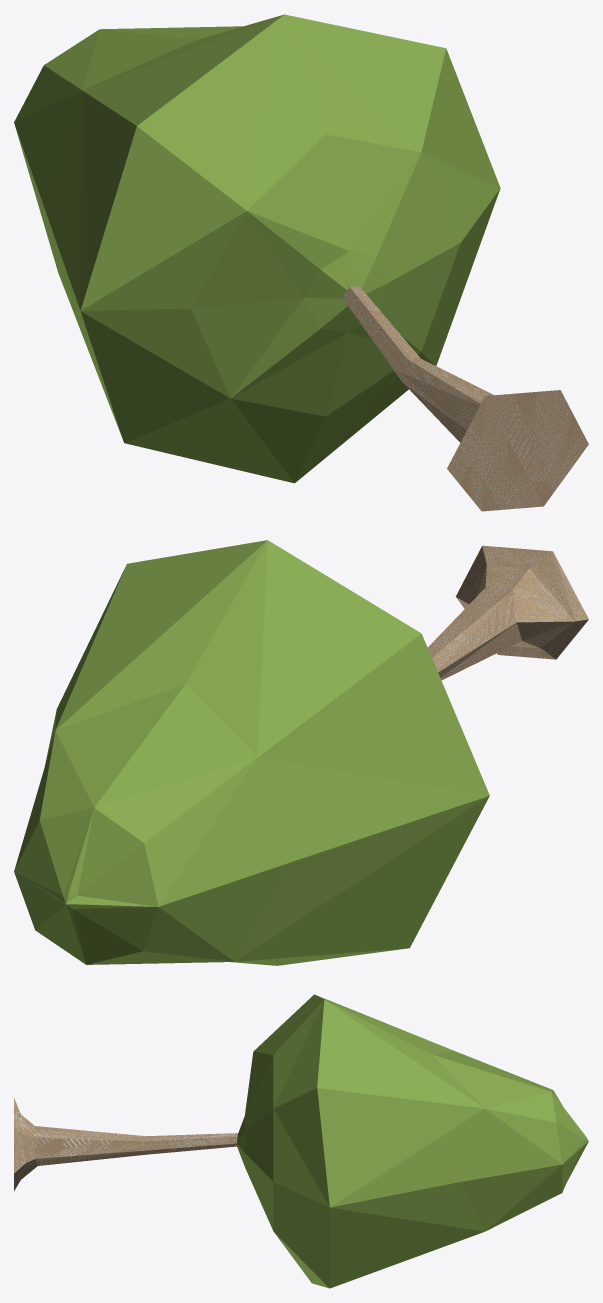
Rendered from arvore.fbx.
3 renders of one model, top to bottom at view 1: azimuth 30°, elevation 25°; view 2: azimuth 150°, elevation 25°; view 3: azimuth 270°, elevation 25°, orthographic. The views are drawn at different scales.
Parts seen in each view (by area): view 1: Mesh2; view 2: Mesh2; view 3: Mesh2.
Boxes of the visible parts, x1,y1,x2,y2 form: Mesh2: (14, 14, 588, 511); Mesh2: (14, 540, 588, 965); Mesh2: (14, 994, 588, 1288).
Bounding box in the file's own units: 666 × 666 × 1223.
